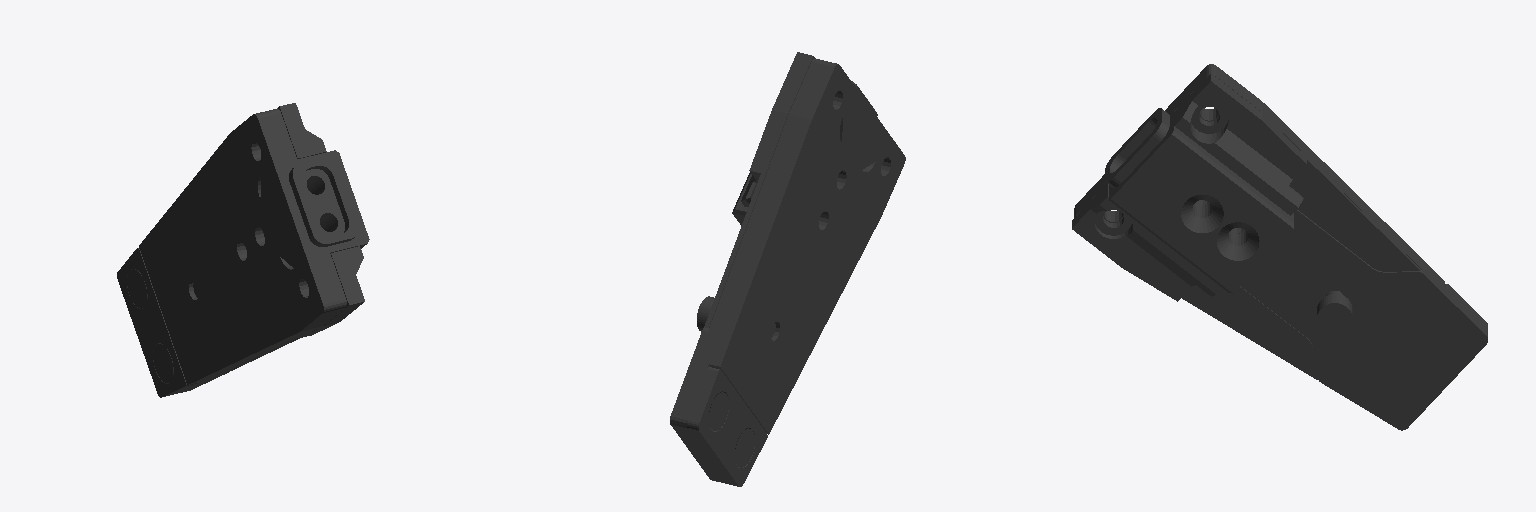
The model's file is right_arm_f1_1.obj.
3 views of the same model, side by side, from view 1: azimuth 30°, elevation 25°; view 2: azimuth 150°, elevation 25°; view 3: azimuth 270°, elevation 25° (orthographic).
Size of the model in its own units: 0.012 by 0.0584 by 0.0622.